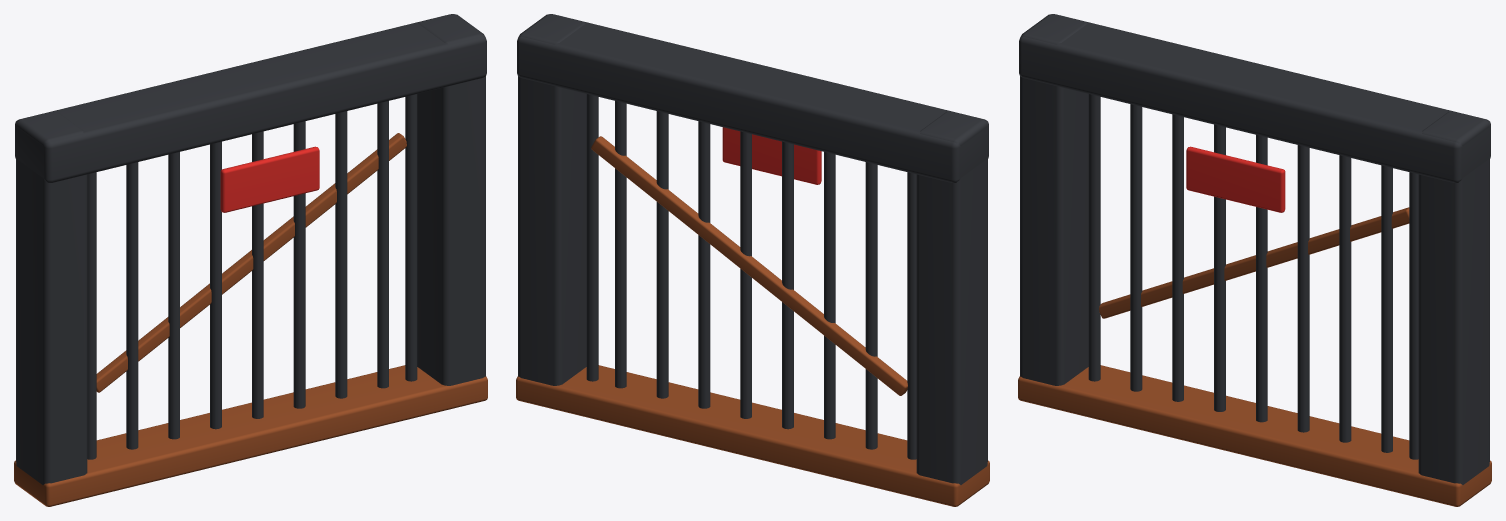
Rendered from arena_gate.glb.
3 renders of one model, left to right at view 1: azimuth 30°, elevation 25°; view 2: azimuth 150°, elevation 25°; view 3: azimuth 330°, elevation 25°, orthographic.
Parts seen in each view (by area): view 1: Header, Left post, Right post, Threshold, Cross brace, TDX plate, Gate bar.008, Gate bar.001, Gate bar.006, Gate bar.002, Gate bar.007, Gate bar.003 (+3 smaller); view 2: Header, Left post, Right post, Threshold, Cross brace, Gate bar.008, Gate bar.001, Gate bar.006, Gate bar.005, Gate bar.003, Gate bar.002, Gate bar.004 (+3 smaller); view 3: Header, Right post, Left post, Threshold, TDX plate, Cross brace, Gate bar, Gate bar.005, Gate bar.006, Gate bar.001, Gate bar.007, Gate bar.002 (+3 smaller).
Boxes of the visible parts, bbox=[...] form: Header: bbox=[15, 22, 486, 182]; Left post: bbox=[16, 111, 87, 484]; Right post: bbox=[417, 14, 485, 385]; Threshold: bbox=[14, 365, 487, 506]; Cross brace: bbox=[96, 133, 406, 392]; TDX plate: bbox=[220, 146, 319, 212]; Gate bar.008: bbox=[405, 94, 417, 381]; Gate bar.001: bbox=[126, 162, 138, 449]; Gate bar.006: bbox=[335, 111, 347, 398]; Gate bar.002: bbox=[168, 152, 179, 439]; Gate bar.007: bbox=[377, 101, 388, 388]; Gate bar.003: bbox=[210, 141, 221, 429]; Header: bbox=[517, 22, 988, 182]; Left post: bbox=[916, 111, 987, 484]; Right post: bbox=[518, 14, 586, 385]; Threshold: bbox=[516, 365, 989, 506]; Cross brace: bbox=[591, 136, 907, 395]; Gate bar.008: bbox=[586, 94, 598, 381]; Gate bar.001: bbox=[865, 162, 877, 449]; Gate bar.006: bbox=[656, 111, 668, 398]; Gate bar.005: bbox=[698, 121, 710, 408]; Gate bar.003: bbox=[782, 141, 793, 429]; Gate bar.002: bbox=[824, 152, 835, 439]; Gate bar.004: bbox=[740, 131, 751, 418]; Header: bbox=[1019, 22, 1490, 182]; Right post: bbox=[1418, 111, 1489, 484]; Left post: bbox=[1020, 14, 1088, 385]; Threshold: bbox=[1018, 365, 1491, 506]; TDX plate: bbox=[1186, 146, 1285, 212]; Cross brace: bbox=[1099, 207, 1409, 318]; Gate bar: bbox=[1088, 94, 1100, 381]; Gate bar.005: bbox=[1297, 145, 1309, 432]; Gate bar.006: bbox=[1339, 155, 1351, 442]; Gate bar.001: bbox=[1130, 104, 1142, 391]; Gate bar.007: bbox=[1381, 165, 1392, 452]; Gate bar.002: bbox=[1172, 114, 1183, 401].
Size of the model in its own units: 4.55 by 3.6 by 0.685.
